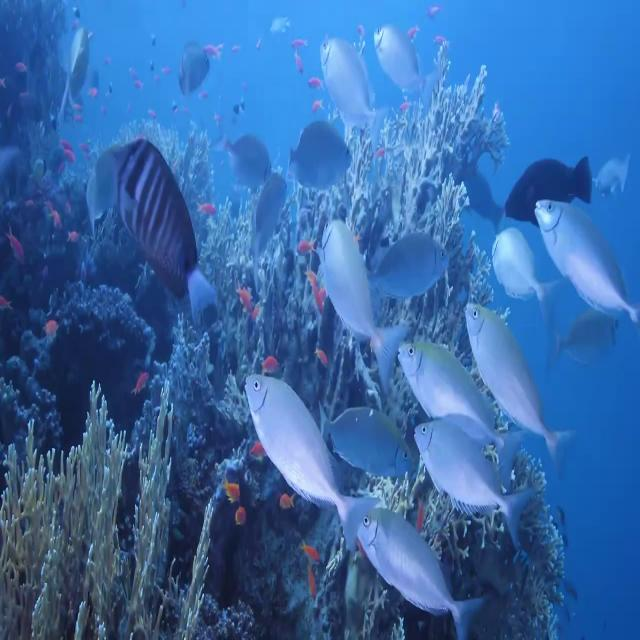fish: (89, 135, 222, 337), (245, 362, 377, 557), (466, 286, 572, 479), (394, 402, 534, 542), (345, 506, 488, 640), (396, 332, 520, 478), (530, 190, 640, 318), (319, 392, 418, 482), (495, 148, 594, 235), (311, 28, 383, 133), (280, 112, 354, 200), (365, 17, 433, 102), (488, 225, 560, 305), (242, 160, 293, 261), (56, 20, 96, 130), (166, 34, 223, 104), (227, 123, 276, 190), (586, 143, 633, 204), (306, 261, 329, 318), (2, 217, 24, 266), (235, 274, 255, 319), (270, 483, 298, 515), (220, 473, 243, 505), (192, 190, 215, 221), (228, 495, 250, 526)
